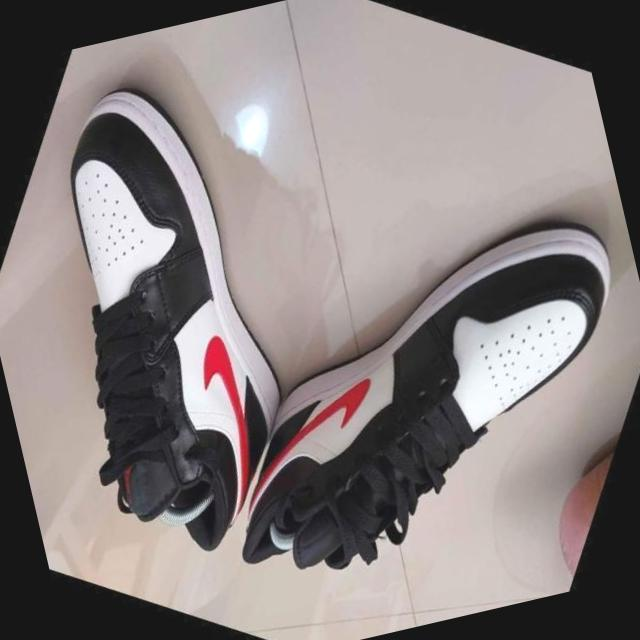nike_fake_jordan: (0, 17, 467, 618), (142, 93, 640, 640)
